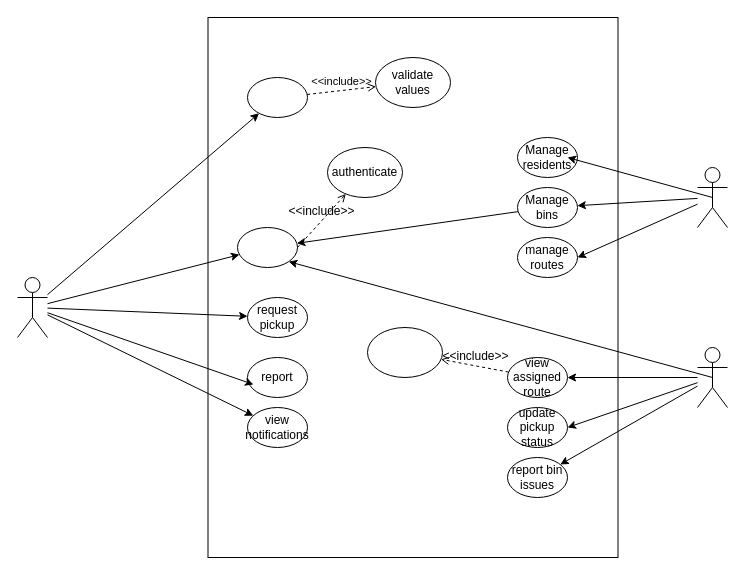
Image size: 753x575. Some labels were removed from this diagram. Each missing label, with the centre of its shape:
"Actor" belongs at point 32,307.
"Admin" belongs at point 712,197.
"Collector" belongs at point 712,377.
"Fetch route data" belongs at point 404,352.
"login" belongs at point 267,247.
"register" belongs at point 277,97.
